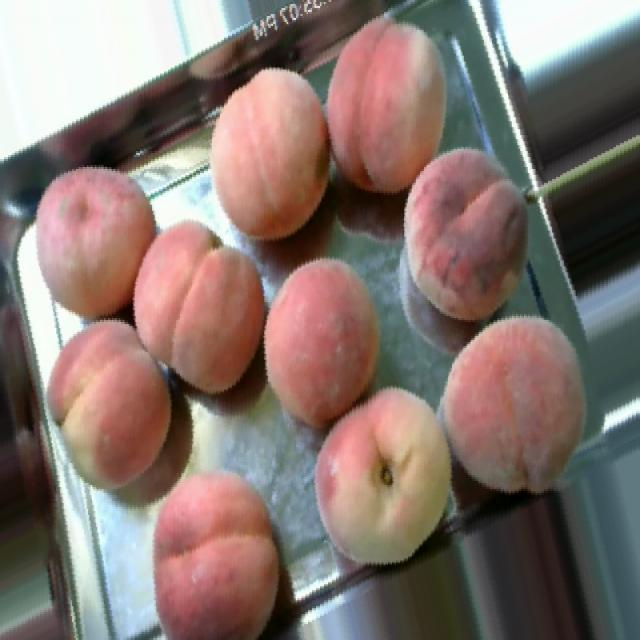Fruit: (420, 292, 617, 521), (291, 362, 480, 590), (379, 129, 548, 346), (29, 302, 196, 511), (4, 141, 179, 340), (130, 451, 306, 640), (251, 241, 408, 451), (111, 205, 268, 413), (321, 0, 468, 217), (184, 42, 328, 260)
